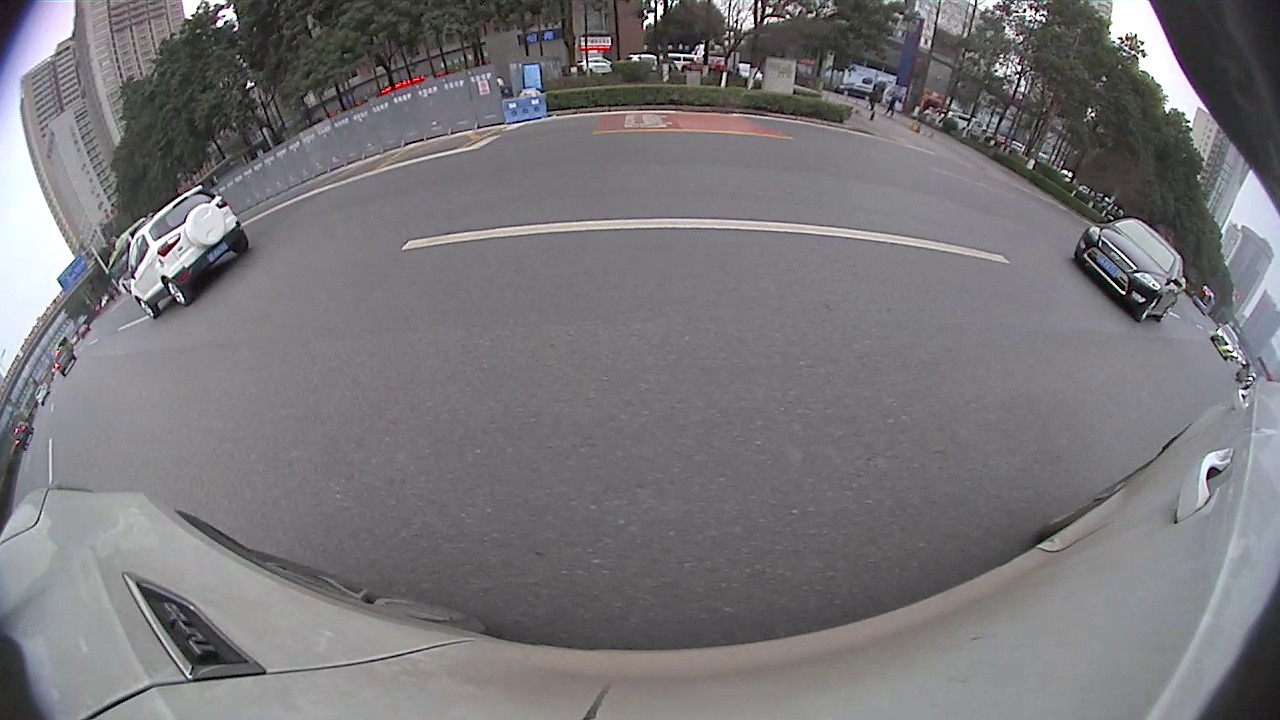bus: (104, 213, 155, 301)
car: (128, 184, 248, 321), (1074, 218, 1188, 326), (1212, 323, 1242, 362)
front: (1137, 298, 1159, 321), (137, 298, 160, 319)
rear: (164, 280, 191, 304), (1158, 304, 1175, 323)
